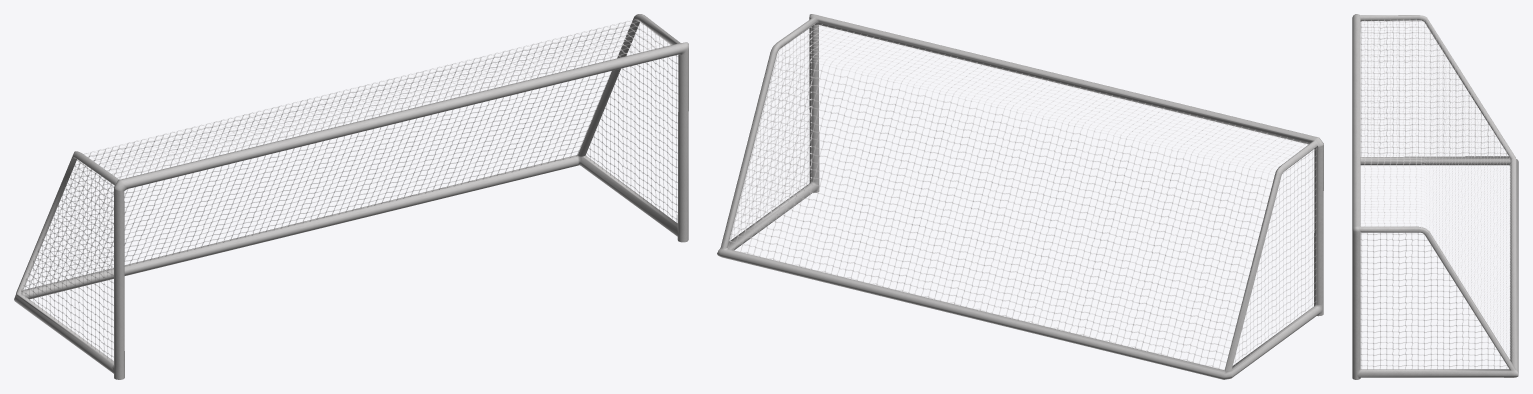
The picture shows the model from 3 angles, left to right: view 1: azimuth 30°, elevation 25°; view 2: azimuth 150°, elevation 25°; view 3: azimuth 270°, elevation 25°; orthographic projection. The views are drawn at different scales.
Parts seen in each view (by area): view 1: soccer_goal; view 2: soccer_goal; view 3: soccer_goal.
Boxes of the visible parts, <box> form: soccer_goal: <box>14,14,688,379</box>; soccer_goal: <box>717,14,1323,379</box>; soccer_goal: <box>1352,14,1518,379</box>.
Bounding box in the file's own units: 732 × 240 × 238.
1 material, 1 textured.
